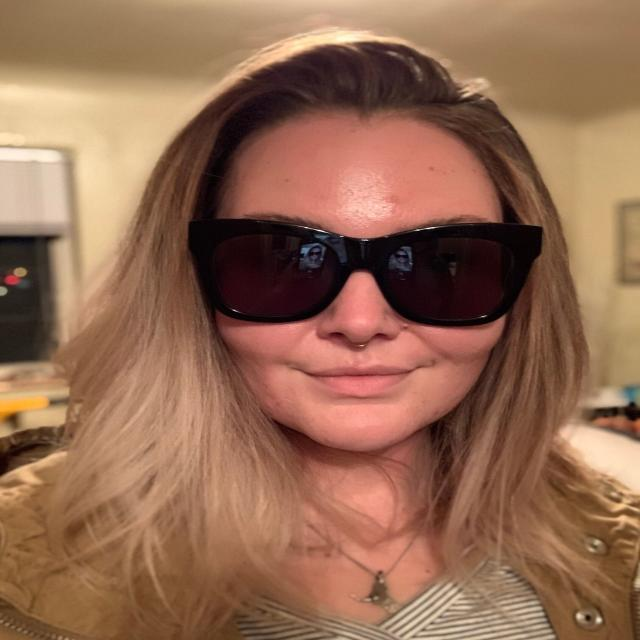2_gafas: (186, 216, 544, 327)
